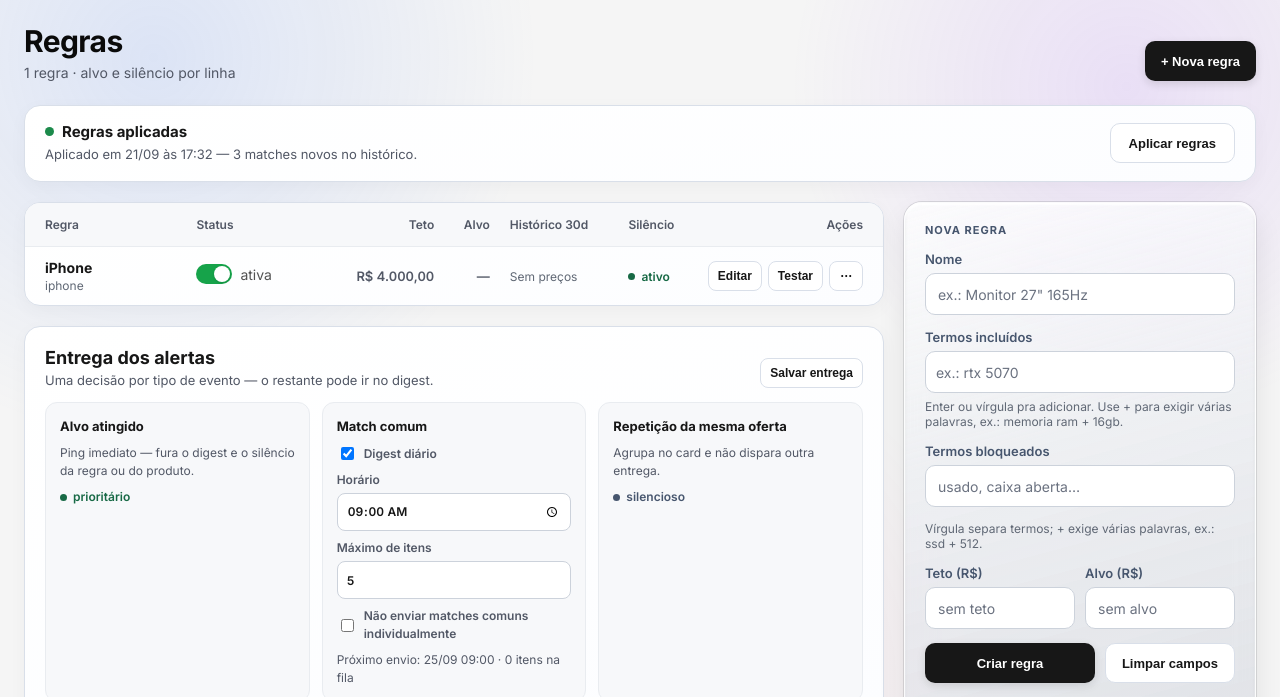
Test: RegrasPage › S13-07: the real-history section shows real recent matches for the tested terms
Click the button "Testar" in the row of "R$ 4.000,00" at (795, 276), box [768,261,823,291]
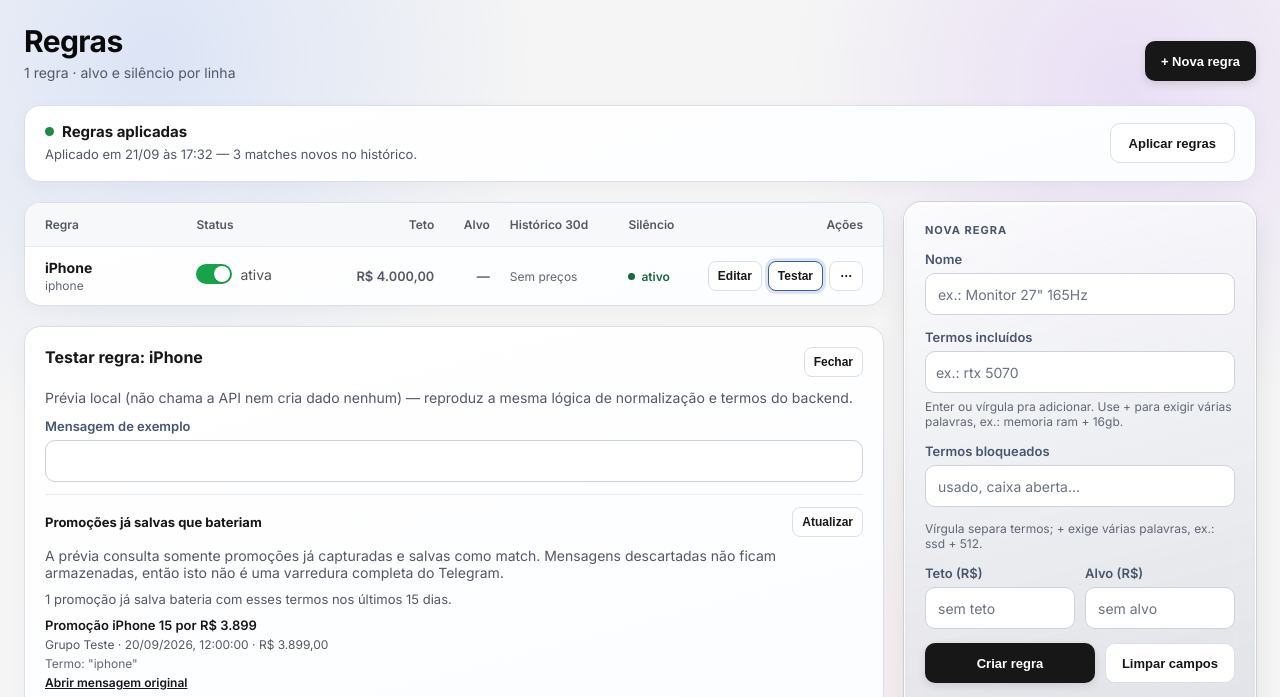
Expected: the text "Promoção iPhone 15 por R$ 3.899" is shown, [45,617,257,633]
Expected: the text "Grupo Teste · 20/09/2026, 12:00:00 · R$ 3.899,00" is shown, [45,637,328,652]
Expected: the text "Termo: \"iphone\"" is shown, [45,656,138,671]
